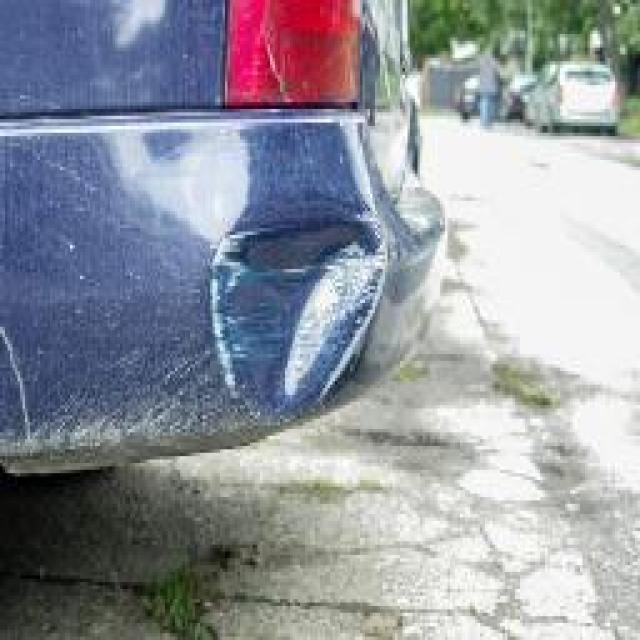Light: (198, 126, 425, 419)
